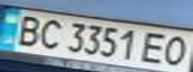1: (115, 26, 142, 61)
3: (60, 20, 87, 55), (81, 23, 103, 57)
5: (100, 24, 121, 60)
B: (6, 12, 45, 47)
C: (33, 17, 66, 51)
E: (136, 29, 172, 65)
O: (157, 34, 193, 68)
